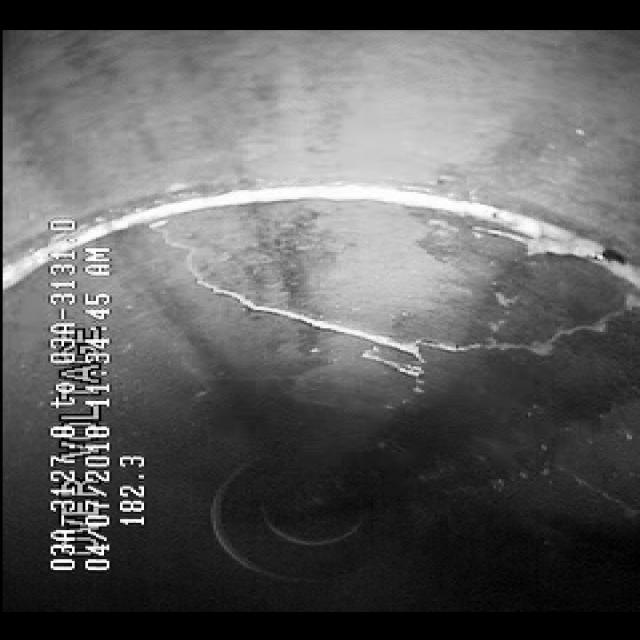Crack: (192, 230, 594, 410)
